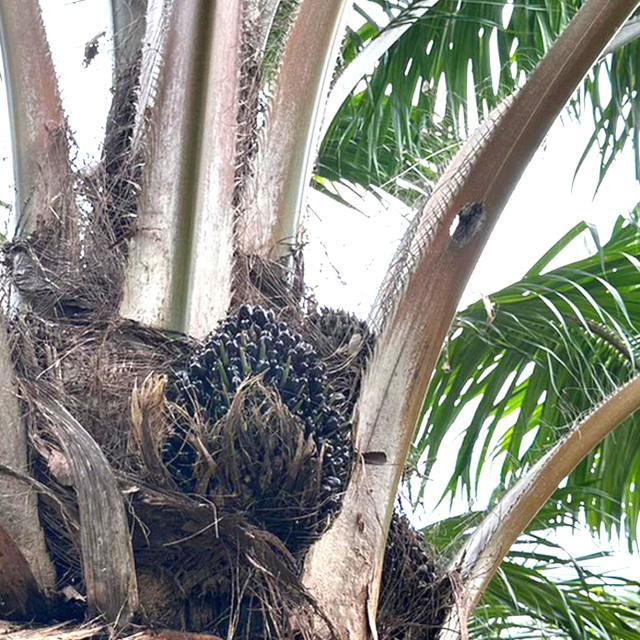unripe: (154, 290, 364, 559)
